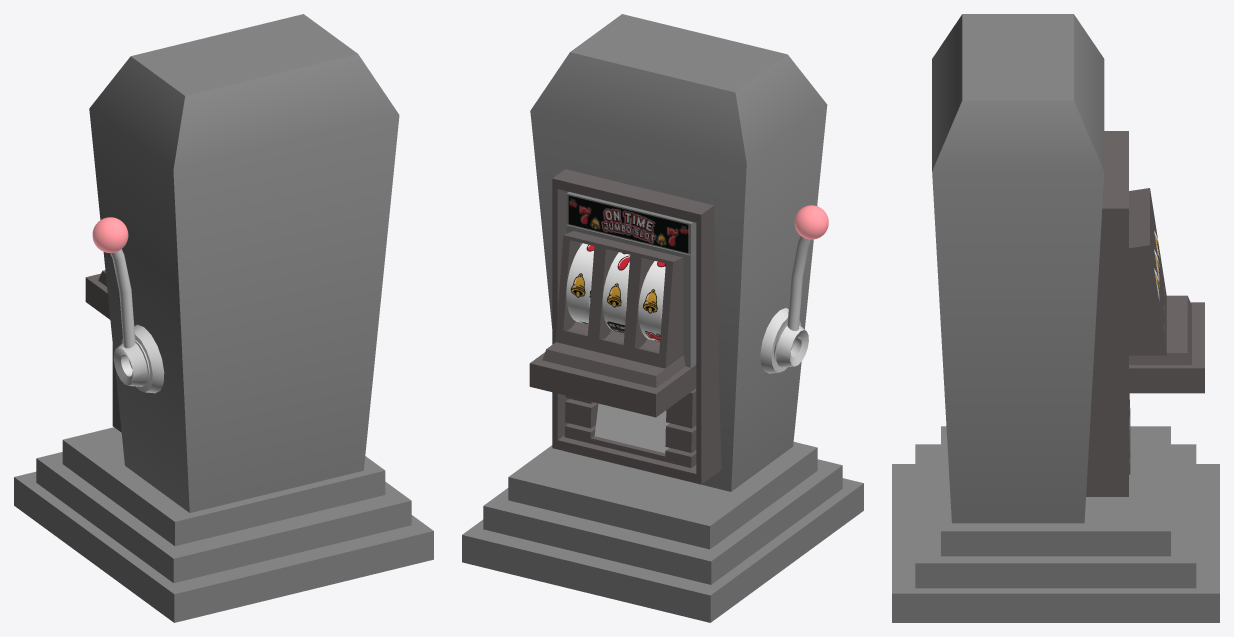
Rendered from pachinko-small.glb.
The picture shows the model from 3 angles, left to right: view 1: azimuth 30°, elevation 25°; view 2: azimuth 150°, elevation 25°; view 3: azimuth 270°, elevation 25°; orthographic projection. The views are drawn at different scales.
Visible parts, largest first — view 1: Cube.006, Cube.5, Cube.4, Cube.3, Tube.2, Boolean.001, Boolean.1, Sphere, Cube.007; view 2: Cube.006, Cube.3, Cube.5, Boolean.004, Cube.4, Boolean.002, Cube.007, Polygon, Cube.001, Cube.008, Cube.009, Boolean (+8 smaller); view 3: Cube.006, Cube.5, Cube.4, Cube.3, Boolean.004, Boolean.002, Cube.007, Cube.008.
Part boxes in pixels (left/top/right/bottom): Cube.006: left=89, top=14, right=399, bottom=512; Cube.5: left=14, top=471, right=433, bottom=622; Cube.4: left=36, top=452, right=411, bottom=582; Cube.3: left=62, top=427, right=385, bottom=545; Tube.2: left=110, top=249, right=135, bottom=348; Boolean.001: left=121, top=324, right=164, bottom=393; Boolean.1: left=113, top=342, right=147, bottom=386; Sphere: left=92, top=217, right=128, bottom=252; Cube.007: left=85, top=273, right=110, bottom=319; Cube.006: left=530, top=14, right=827, bottom=491; Cube.3: left=508, top=442, right=817, bottom=549; Cube.5: left=462, top=478, right=863, bottom=622; Boolean.004: left=552, top=169, right=721, bottom=484; Cube.4: left=483, top=459, right=842, bottom=584; Boolean.002: left=555, top=231, right=683, bottom=368; Cube.007: left=529, top=352, right=696, bottom=417; Polygon: left=564, top=388, right=696, bottom=467; Cube.001: left=568, top=195, right=688, bottom=252; Cube.008: left=542, top=342, right=685, bottom=387; Cube.009: left=594, top=403, right=669, bottom=453; Boolean: left=566, top=224, right=696, bottom=367; Cube.006: left=932, top=14, right=1104, bottom=523; Cube.5: left=892, top=464, right=1219, bottom=622; Cube.4: left=915, top=444, right=1196, bottom=588; Cube.3: left=941, top=426, right=1170, bottom=556; Boolean.004: left=1086, top=131, right=1128, bottom=496; Boolean.002: left=1129, top=188, right=1166, bottom=355; Cube.007: left=1129, top=302, right=1204, bottom=393; Cube.008: left=1129, top=295, right=1191, bottom=364.
Size of the model in its own units: 4.22 by 7.07 by 4.19.
Materials: 8 (4 with a texture image).
